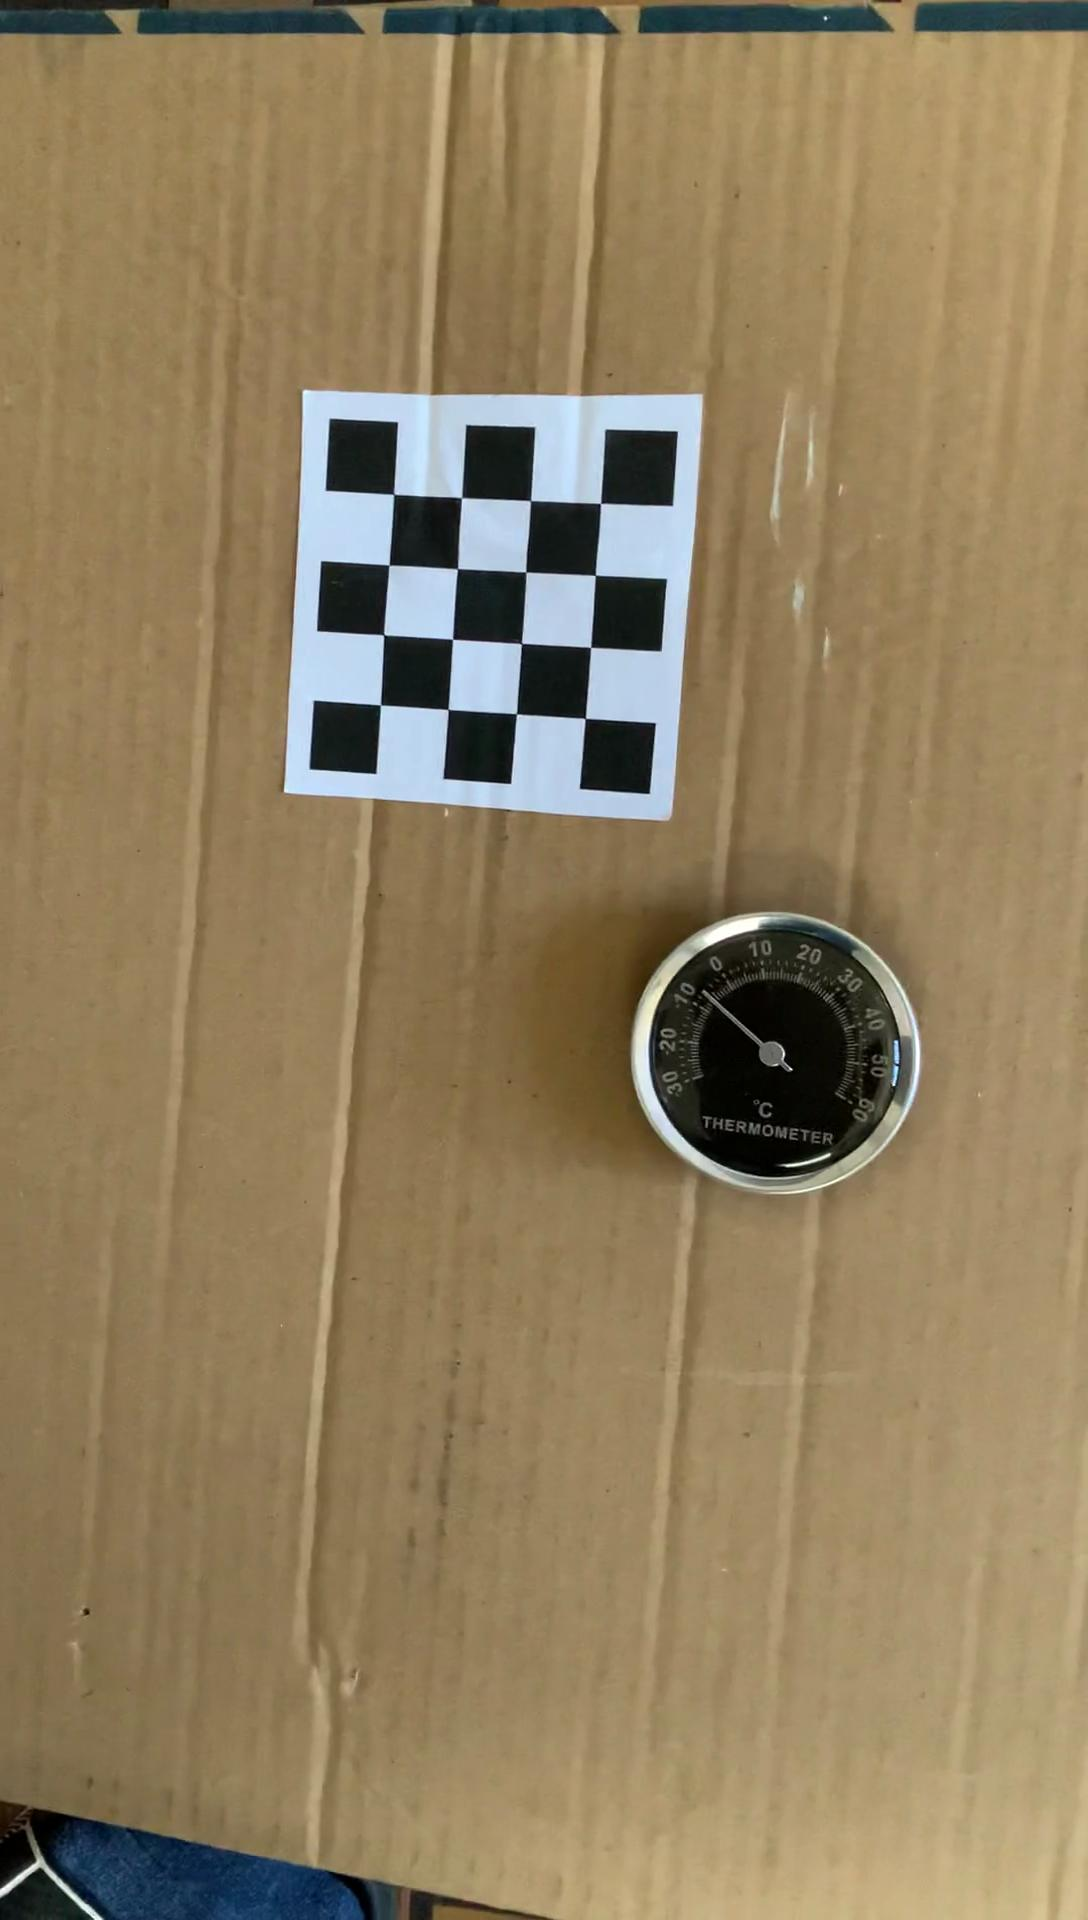gauge: (626, 907, 923, 1204)
